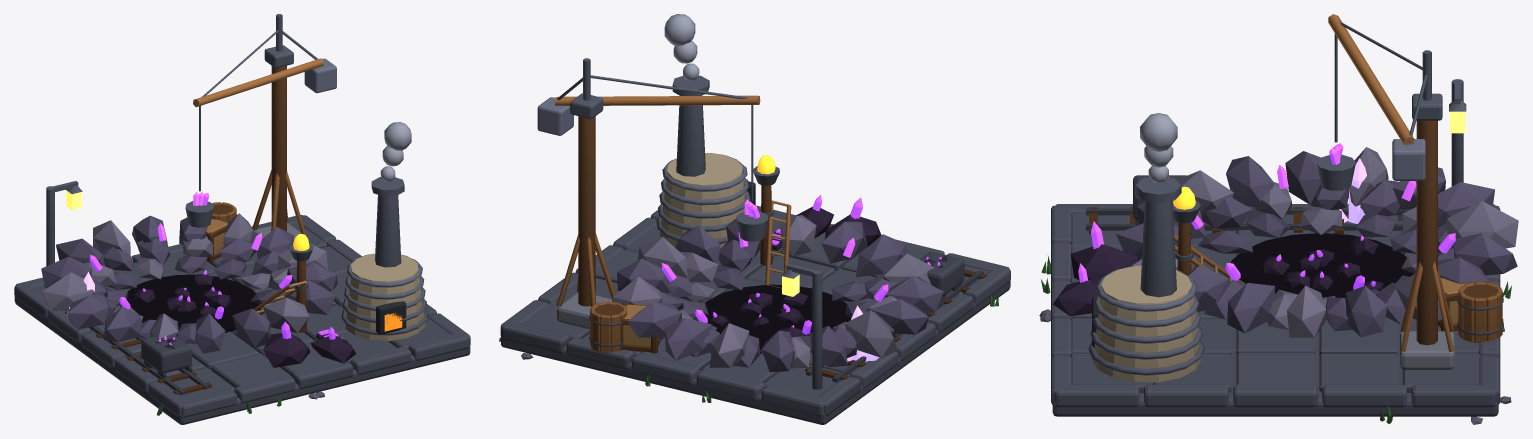
Rendered from dark_ore_pit.glb.
The picture shows the model from 3 angles, left to right: view 1: azimuth 30°, elevation 25°; view 2: azimuth 150°, elevation 25°; view 3: azimuth 270°, elevation 25°; orthographic projection. The views are drawn at different scales.
Visible parts, largest first — view 1: t0_stone_dark, t0_rock, t0_rock_light, t0_iron, t0_dark, t0_stone_warm, t0_ore_vein, t0_wood_dark, t0_wood, smoke_t0_spinY30_bob8_stone, boom_t0_spinY18_wood, boom_t0_spinY18_iron (+5 smaller); view 2: t0_stone_dark, t0_rock, t0_rock_light, t0_iron, t0_stone_warm, t0_dark, t0_wood_dark, t0_ore_vein, t0_wood, boom_t0_spinY18_wood, boom_t0_spinY18_iron, t1_iron (+10 smaller); view 3: t0_stone_dark, t0_rock, t0_rock_light, t0_stone_warm, t0_dark, t0_iron, t0_ore_vein, t0_wood_dark, t2_wood, boom_t0_spinY18_wood, smoke_t0_spinY30_bob8_stone, t0_wood (+11 smaller).
Boxes of the visible parts, x1,y1,x2,y2 form: t0_stone_dark: (14,214,470,424); t0_rock: (41,215,337,353); t0_rock_light: (42,213,327,399); t0_iron: (66,177,406,395); t0_dark: (120,274,260,332); t0_stone_warm: (344,253,425,341); t0_ore_vein: (133,274,355,367); t0_wood_dark: (65,65,286,394); t0_wood: (252,170,307,314); smoke_t0_spinY30_bob8_stone: (380,122,411,181); boom_t0_spinY18_wood: (193,58,323,107); boom_t0_spinY18_iron: (195,14,317,103); t0_stone_dark: (500,153,1010,424); t0_rock: (617,218,943,372); t0_rock_light: (499,215,933,368); t0_iron: (672,75,983,382); t0_stone_warm: (659,153,745,248); t0_dark: (696,284,851,353); t0_wood_dark: (578,116,986,380); t0_ore_vein: (711,206,947,337); t0_wood: (556,201,791,307); boom_t0_spinY18_wood: (554,95,760,105); boom_t0_spinY18_iron: (557,58,759,118); t1_iron: (781,264,822,389); t0_stone_dark: (1051,204,1500,416); t0_rock: (1116,151,1517,337); t0_rock_light: (1039,147,1518,424); t0_stone_warm: (1092,265,1201,382); t0_dark: (1231,233,1414,297); t0_iron: (1086,175,1410,347); t0_ore_vein: (1053,237,1383,316); t0_wood_dark: (1089,120,1437,345); t2_wood: (1458,282,1502,342); boom_t0_spinY18_wood: (1328,14,1414,145); smoke_t0_spinY30_bob8_stone: (1140,113,1177,183); t0_wood: (1174,234,1453,351).
Bounding box in the file's own units: 3.24 × 2.44 × 3.16.
